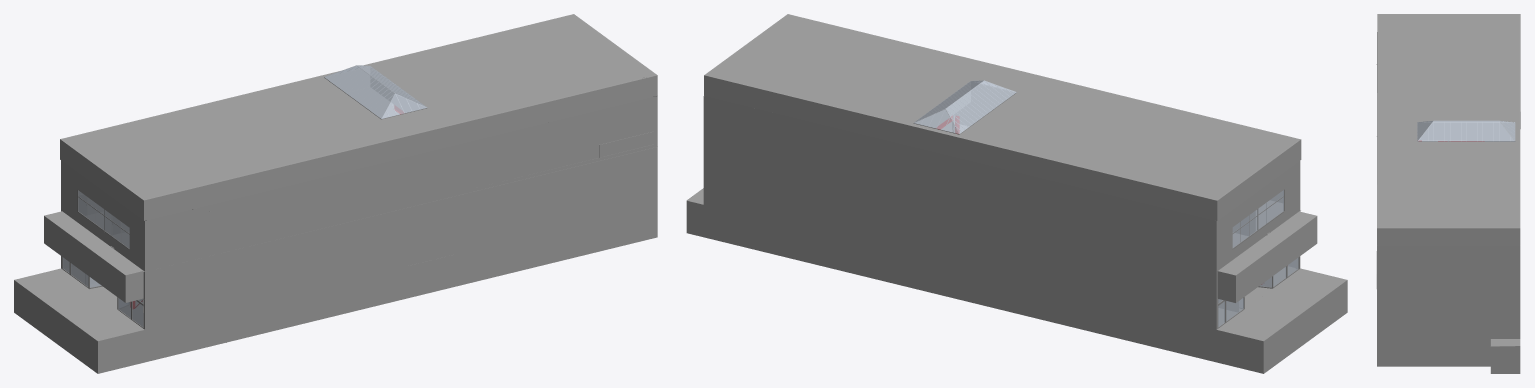
Rendered from whole.fbx.
3 views of the same model, side by side, from view 1: azimuth 30°, elevation 25°; view 2: azimuth 150°, elevation 25°; view 3: azimuth 270°, elevation 25° (orthographic). The views are drawn at different scales.
Visible parts, largest first — view 1: polySurface3, pPlane1, polySurface725, polySurface139, polySurface583, polySurface582, polySurface728, polySurface516, polySurface588; view 2: polySurface3, pPlane1, polySurface725, polySurface139, polySurface583, polySurface582, polySurface728, polySurface516, polySurface588, Third_Floor; view 3: pPlane1, polySurface3, polySurface725, polySurface583, polySurface582, polySurface588, polySurface1094.
Part boxes in pixels (bbox=[...]): polySurface3: bbox=[14, 96, 657, 373]; pPlane1: bbox=[62, 15, 654, 199]; polySurface725: bbox=[60, 14, 657, 220]; polySurface139: bbox=[44, 211, 143, 302]; polySurface583: bbox=[324, 65, 427, 118]; polySurface582: bbox=[325, 67, 425, 112]; polySurface728: bbox=[78, 190, 129, 248]; polySurface516: bbox=[63, 257, 143, 326]; polySurface588: bbox=[324, 65, 427, 119]; polySurface3: bbox=[686, 96, 1347, 373]; pPlane1: bbox=[706, 15, 1298, 199]; polySurface725: bbox=[704, 14, 1301, 220]; polySurface139: bbox=[1217, 211, 1317, 302]; polySurface583: bbox=[914, 80, 1016, 133]; polySurface582: bbox=[915, 82, 1015, 127]; polySurface728: bbox=[1232, 190, 1283, 247]; polySurface516: bbox=[1218, 257, 1298, 326]; polySurface588: bbox=[913, 80, 1016, 134]; Third_Floor: bbox=[941, 122, 1282, 247]; pPlane1: bbox=[1378, 14, 1518, 227]; polySurface3: bbox=[1377, 32, 1520, 373]; polySurface725: bbox=[1377, 14, 1520, 245]; polySurface583: bbox=[1417, 120, 1515, 141]; polySurface582: bbox=[1417, 123, 1514, 139]; polySurface588: bbox=[1417, 121, 1515, 141]; polySurface1094: bbox=[1377, 245, 1518, 245].
Bounding box in the file's own units: 5672 × 1653 × 1437.
